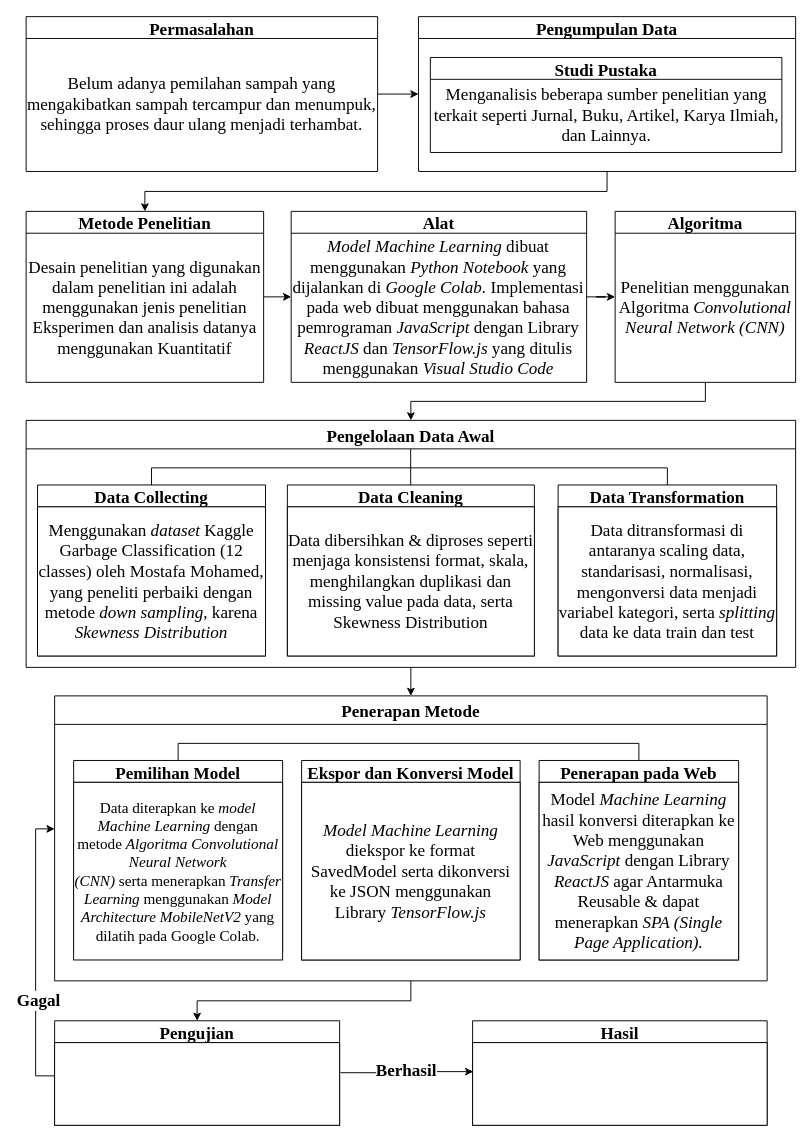
Image size: 812x1142. Some labels were removed from this diagram. Here are the shapes that lost their labels. From the top down, the centre of each, then its label:
At point (197, 1083): "Aplikasi diuji menggunakan Pengujian Black Box, dan Angket Responden".
At point (619, 1083): "Aplikasi Image Classification pemilahan jenis Sampah berbasis Web".
